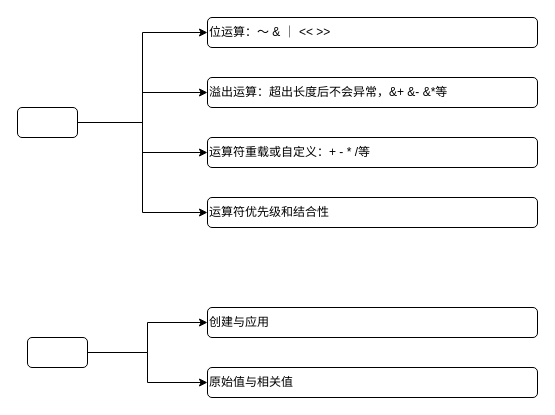
The diagram is 555 pixels wide and 415 high, and some of its shapes have lost their labels. Each missing label, with the centre of its shape:
"枚举" goes at (x=57, y=352).
"运算符" goes at (x=47, y=122).
